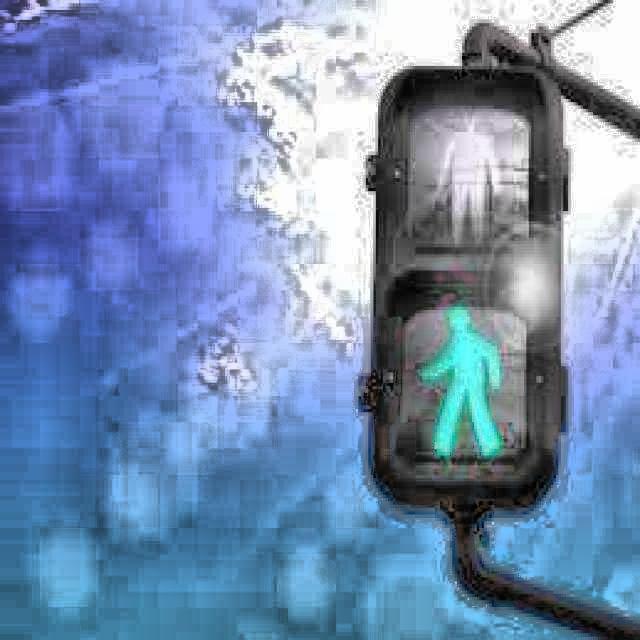semaforo pedestre: (305, 40, 602, 573)
